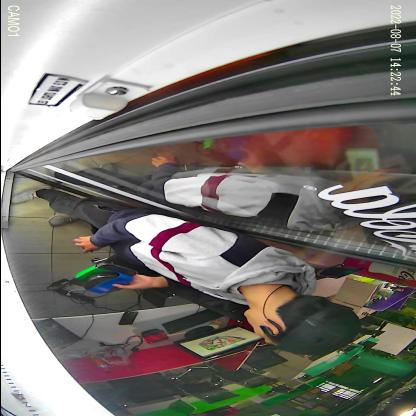blue: (82, 270, 132, 294)
green: (67, 261, 136, 287)
